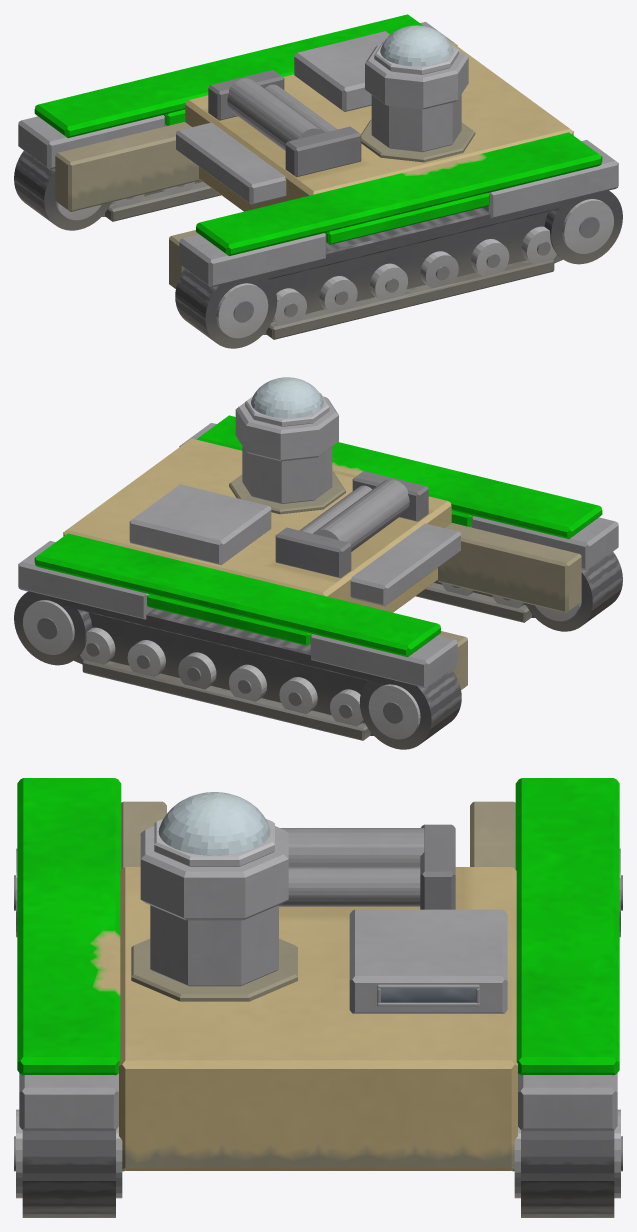
File: mobile-emp-cannon.glb
The picture shows the model from 3 angles, top to bottom: view 1: azimuth 30°, elevation 25°; view 2: azimuth 150°, elevation 25°; view 3: azimuth 270°, elevation 25°; orthographic projection. The views are drawn at different scales.
Parts seen in each view (by area): view 1: cover, deck, cover_2, ledge_2, belt_core, lip, belt_top, belt_bottom, housing, hatch_box, tower, collar (+23 smaller); view 2: cover_2, deck, cover, ledge, hatch_box, belt_core_2, lip, belt_top_2, belt_bottom_2, housing_3, tower, collar (+23 smaller); view 3: deck, cover, cover_2, hatch_box, collar, tower, belt_end_2, belt_end_4, housing_2, housing_4, orb, conduit (+9 smaller).
Boxes of the visible parts, x1,y1,x2,y2 form: cover: [196, 132, 602, 255]; deck: [185, 39, 573, 211]; cover_2: [34, 14, 423, 137]; ledge_2: [55, 122, 199, 211]; belt_core: [263, 211, 562, 334]; lip: [176, 122, 286, 205]; belt_top: [243, 196, 585, 283]; belt_bottom: [266, 259, 554, 339]; housing: [179, 233, 326, 287]; hatch_box: [294, 31, 389, 111]; tower: [371, 94, 461, 152]; collar: [365, 44, 468, 109]; cover_2: [34, 533, 440, 657]; deck: [63, 438, 451, 612]; cover: [196, 415, 602, 538]; ledge: [437, 523, 581, 612]; hatch_box: [129, 484, 271, 564]; belt_core_2: [74, 612, 373, 735]; lip: [350, 523, 460, 606]; belt_top_2: [51, 597, 393, 684]; belt_bottom_2: [82, 660, 370, 740]; housing_3: [310, 634, 457, 688]; tower: [242, 446, 332, 503]; collar: [235, 396, 338, 461]; deck: [119, 867, 517, 1170]; cover: [17, 778, 121, 1075]; cover_2: [515, 778, 619, 1075]; hatch_box: [349, 909, 507, 1013]; collar: [140, 826, 288, 920]; tower: [150, 905, 278, 986]; belt_end_2: [22, 1130, 115, 1217]; belt_end_4: [521, 1130, 614, 1217]; housing_2: [19, 1073, 118, 1130]; housing_4: [518, 1073, 617, 1130]; orb: [158, 792, 270, 855]; conduit: [280, 828, 424, 867].
Bounding box in the file's own units: 1.15 × 0.5663 × 0.9372.
